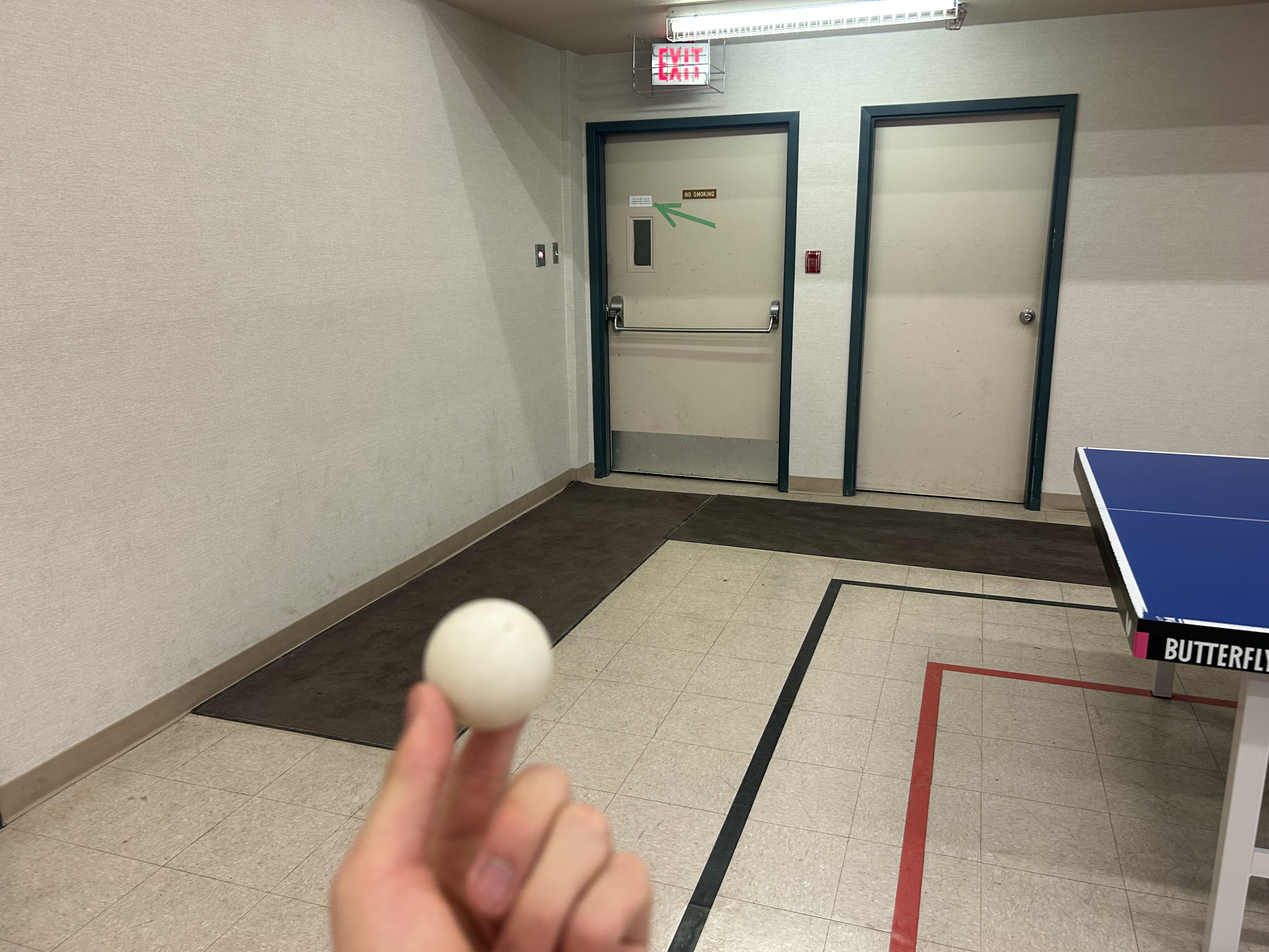Ball: (428, 594, 557, 721)
